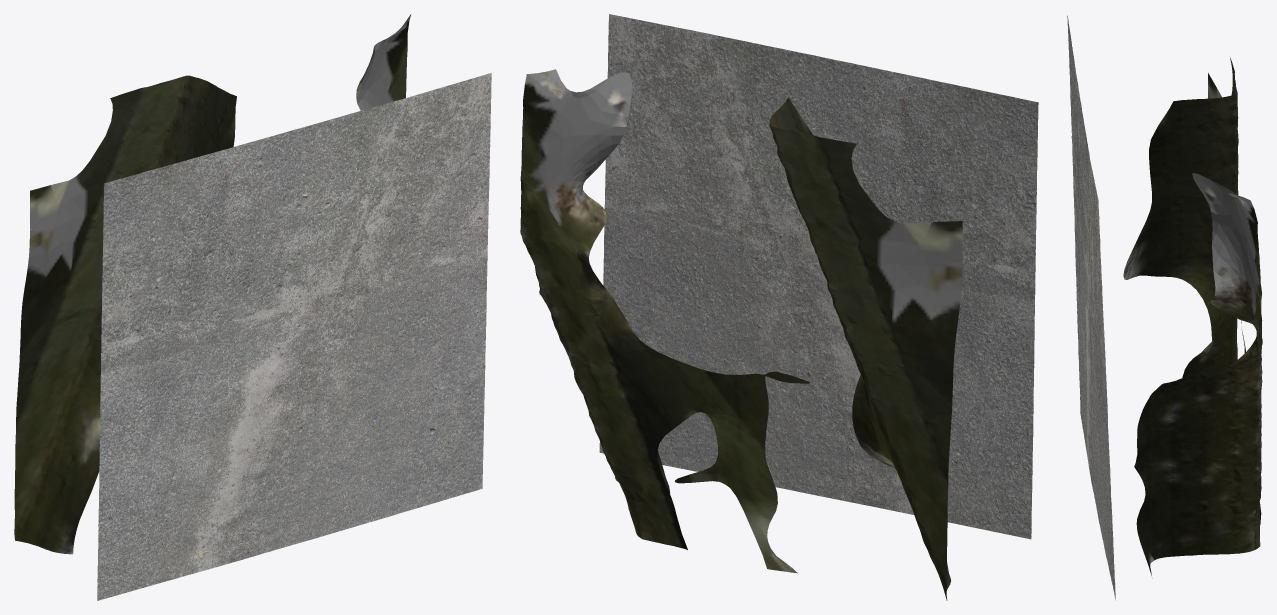
Rendered from Tile_+005_+006.fbx.
The picture shows the model from 3 angles, left to right: view 1: azimuth 30°, elevation 25°; view 2: azimuth 150°, elevation 25°; view 3: azimuth 270°, elevation 25°; orthographic projection. The views are drawn at different scales.
Visible parts, largest first — view 1: Tile_+005_+006_LOD0; view 2: Tile_+005_+006_LOD0; view 3: Tile_+005_+006_LOD0.
Boxes of the visible parts, x1,y1,x2,y2 form: Tile_+005_+006_LOD0: (14,14,491,600); Tile_+005_+006_LOD0: (520,14,1038,600); Tile_+005_+006_LOD0: (1067,15,1262,600).
Size of what is drawn, in the model's own units: 303 by 303 by 134.
